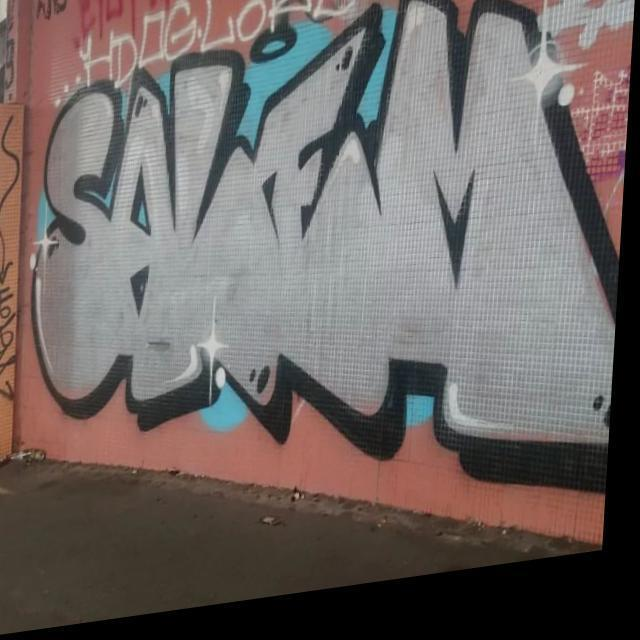-: (18, 0, 637, 615), (78, 0, 584, 101), (563, 79, 633, 202), (542, 0, 640, 72), (0, 262, 31, 416), (20, 0, 74, 27)
